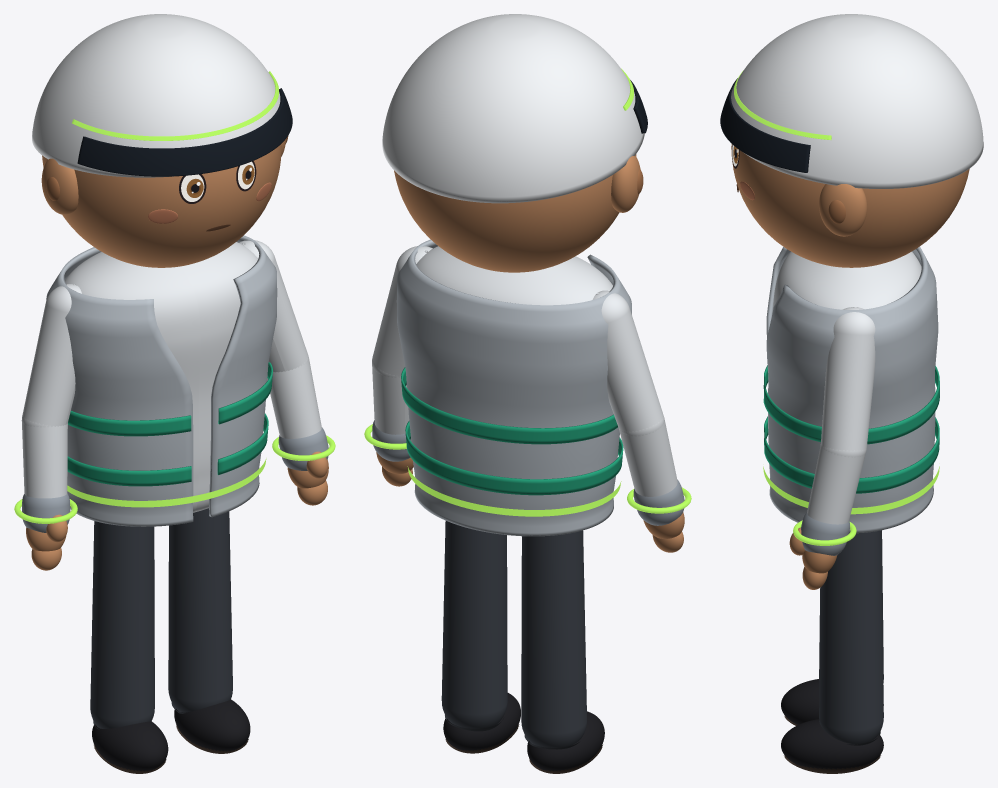
File: bewaker_a.glb
3 views of the same model, side by side, from view 1: azimuth 30°, elevation 25°; view 2: azimuth 150°, elevation 25°; view 3: azimuth 270°, elevation 25° (orthographic).
Parts seen in each view (by area): view 1: bewaker_a_hesje, bewaker_a_helm, bewaker_a_hoofd, bewaker_a_romp, bewaker_a_been_R, bewaker_a_been_L, bewaker_a_helm_vizier, bewaker_a_bovenarm_R, bewaker_a_onderarm_R, bewaker_a_hesje_band1, bewaker_a_onderarm_L, bewaker_a_hesje_band0 (+9 smaller); view 2: bewaker_a_hesje, bewaker_a_helm, bewaker_a_been_R, bewaker_a_hoofd, bewaker_a_been_L, bewaker_a_romp, bewaker_a_bovenarm_R, bewaker_a_hesje_band0, bewaker_a_hesje_band1, bewaker_a_onderarm_R, bewaker_a_bovenarm_L, bewaker_a_schoen_R (+6 smaller); view 3: bewaker_a_helm, bewaker_a_hesje, bewaker_a_hoofd, bewaker_a_been_L, bewaker_a_bovenarm_L, bewaker_a_romp, bewaker_a_schoen_L, bewaker_a_onderarm_L, bewaker_a_helm_vizier, bewaker_a_hesje_band1, bewaker_a_hesje_band0, bewaker_a_oor_L (+6 smaller).
Part boxes in pixels (bbox=[...]): bewaker_a_hesje: bbox=[46, 235, 277, 526]; bewaker_a_helm: bbox=[32, 14, 280, 177]; bewaker_a_hoofd: bbox=[42, 144, 281, 267]; bewaker_a_romp: bbox=[65, 242, 257, 512]; bewaker_a_been_R: bbox=[90, 521, 154, 728]; bewaker_a_been_L: bbox=[168, 508, 232, 712]; bewaker_a_helm_vizier: bbox=[77, 88, 292, 176]; bewaker_a_bovenarm_R: bbox=[22, 284, 81, 426]; bewaker_a_onderarm_R: bbox=[22, 419, 67, 498]; bewaker_a_hesje_band1: bbox=[68, 362, 272, 436]; bewaker_a_onderarm_L: bbox=[267, 359, 321, 438]; bewaker_a_hesje_band0: bbox=[67, 413, 268, 486]; bewaker_a_hesje: bbox=[396, 239, 631, 536]; bewaker_a_helm: bbox=[382, 14, 644, 203]; bewaker_a_been_R: bbox=[521, 530, 586, 747]; bewaker_a_hoofd: bbox=[394, 154, 636, 272]; bewaker_a_been_L: bbox=[441, 521, 507, 728]; bewaker_a_romp: bbox=[416, 246, 612, 305]; bewaker_a_bovenarm_R: bbox=[592, 290, 663, 435]; bewaker_a_hesje_band0: bbox=[405, 421, 623, 495]; bewaker_a_hesje_band1: bbox=[401, 367, 617, 444]; bewaker_a_onderarm_R: bbox=[619, 420, 677, 496]; bewaker_a_bovenarm_L: bbox=[372, 246, 432, 376]; bewaker_a_schoen_R: bbox=[527, 711, 604, 771]; bewaker_a_helm: bbox=[731, 14, 983, 188]; bewaker_a_hesje: bbox=[766, 246, 938, 533]; bewaker_a_hoofd: bbox=[731, 144, 969, 267]; bewaker_a_been_L: bbox=[819, 530, 883, 744]; bewaker_a_bovenarm_L: bbox=[820, 307, 875, 457]; bewaker_a_romp: bbox=[773, 251, 921, 309]; bewaker_a_schoen_L: bbox=[781, 719, 883, 769]; bewaker_a_onderarm_L: bbox=[807, 445, 865, 524]; bewaker_a_helm_vizier: bbox=[720, 78, 810, 172]; bewaker_a_hesje_band1: bbox=[763, 365, 939, 444]; bewaker_a_hesje_band0: bbox=[764, 416, 939, 493]; bewaker_a_oor_L: bbox=[819, 184, 867, 236].
Size of the model in its own units: 0.8494 by 1.88 by 0.6187.
